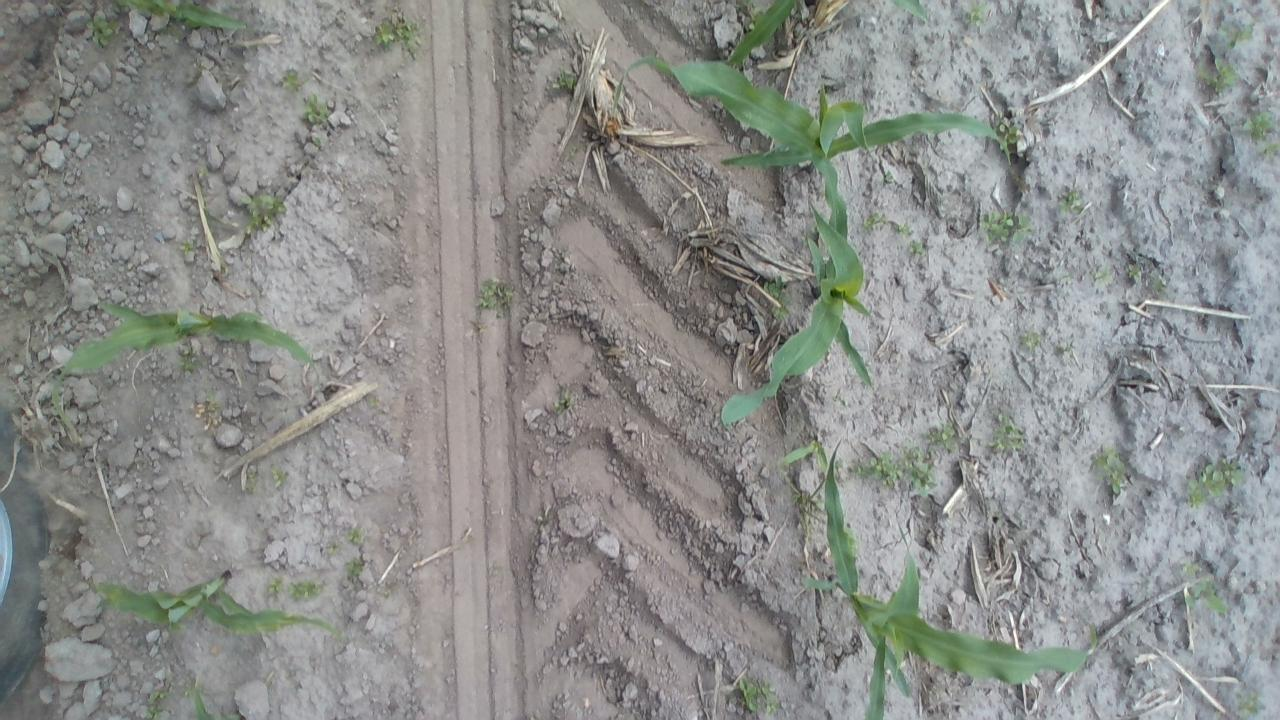Maize: (804, 452, 1100, 716), (614, 66, 1011, 256), (717, 107, 882, 432), (44, 292, 319, 408), (87, 568, 350, 648), (184, 165, 247, 280), (720, 0, 800, 62), (117, 1, 250, 38), (861, 633, 891, 720), (190, 687, 252, 720), (772, 442, 834, 474), (891, 0, 932, 24)
Weeds: (1184, 455, 1244, 510), (898, 434, 938, 500), (1091, 443, 1132, 498), (981, 207, 1036, 246), (372, 14, 422, 56), (735, 674, 782, 716), (242, 192, 286, 236), (846, 450, 901, 485), (1198, 54, 1240, 94), (475, 276, 515, 316), (1182, 578, 1228, 612), (989, 411, 1025, 453), (1242, 108, 1276, 148), (300, 93, 334, 130), (792, 490, 818, 536), (88, 12, 119, 48), (995, 119, 1024, 157), (765, 276, 791, 318), (548, 64, 578, 96), (1220, 20, 1256, 46), (1232, 689, 1264, 718), (926, 421, 960, 448), (140, 688, 170, 718), (290, 576, 323, 602), (964, 2, 992, 32), (858, 210, 886, 236), (739, 2, 765, 30), (551, 386, 576, 415), (177, 345, 200, 376), (1056, 188, 1082, 214), (1017, 326, 1043, 351), (344, 555, 364, 586), (238, 463, 259, 492), (280, 67, 304, 92), (198, 392, 222, 415), (1056, 339, 1080, 362), (552, 246, 570, 276), (1090, 265, 1112, 288), (535, 504, 552, 533), (346, 524, 366, 548), (270, 465, 288, 490), (264, 576, 284, 598), (910, 239, 929, 262), (468, 318, 489, 338), (178, 237, 200, 256), (1254, 142, 1280, 157), (894, 220, 912, 241), (1181, 560, 1202, 578), (832, 387, 850, 408), (1124, 262, 1142, 282), (319, 540, 340, 557), (1150, 274, 1166, 295), (568, 142, 588, 158), (486, 561, 502, 579), (366, 395, 381, 408), (382, 584, 394, 600)
